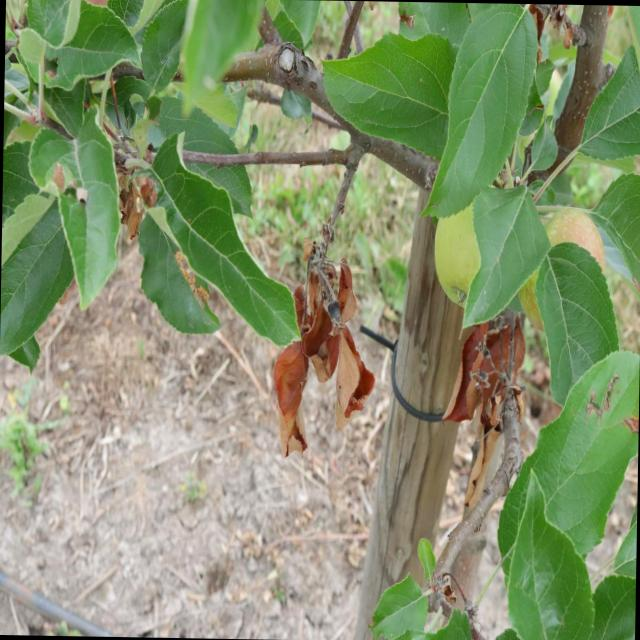-FireBlight-: (286, 247, 382, 440), (464, 324, 528, 431), (115, 170, 149, 228), (472, 427, 492, 502)
